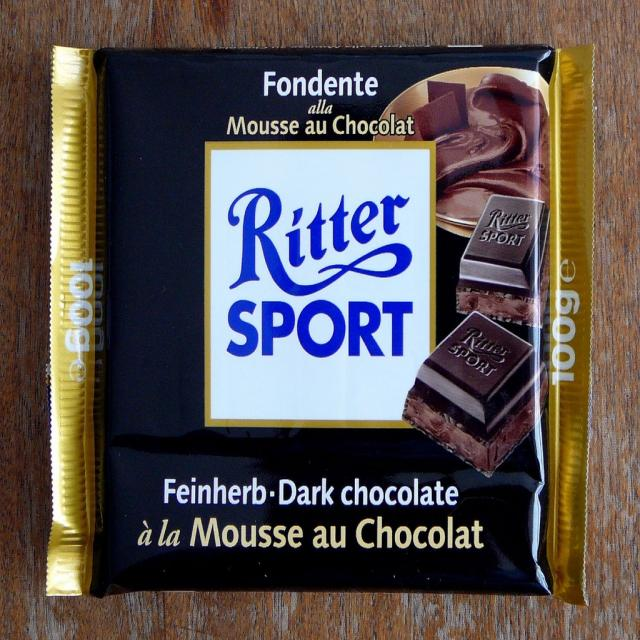rittersport: (206, 142, 437, 430)
